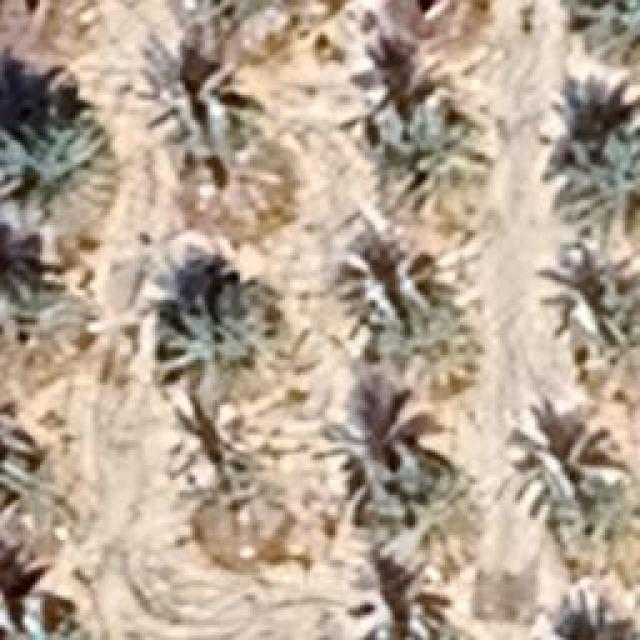PalmTree: (91, 85, 240, 489), (318, 382, 450, 528), (40, 105, 91, 471), (368, 89, 494, 199), (502, 405, 622, 520), (130, 37, 250, 145), (160, 284, 255, 408), (0, 115, 115, 213), (332, 238, 440, 338), (534, 252, 638, 352), (558, 128, 638, 245), (345, 552, 453, 638), (0, 282, 72, 369), (0, 592, 93, 640), (550, 592, 638, 638), (572, 0, 637, 62), (182, 0, 290, 33)
